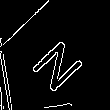N_NE: (25, 26, 90, 90)
